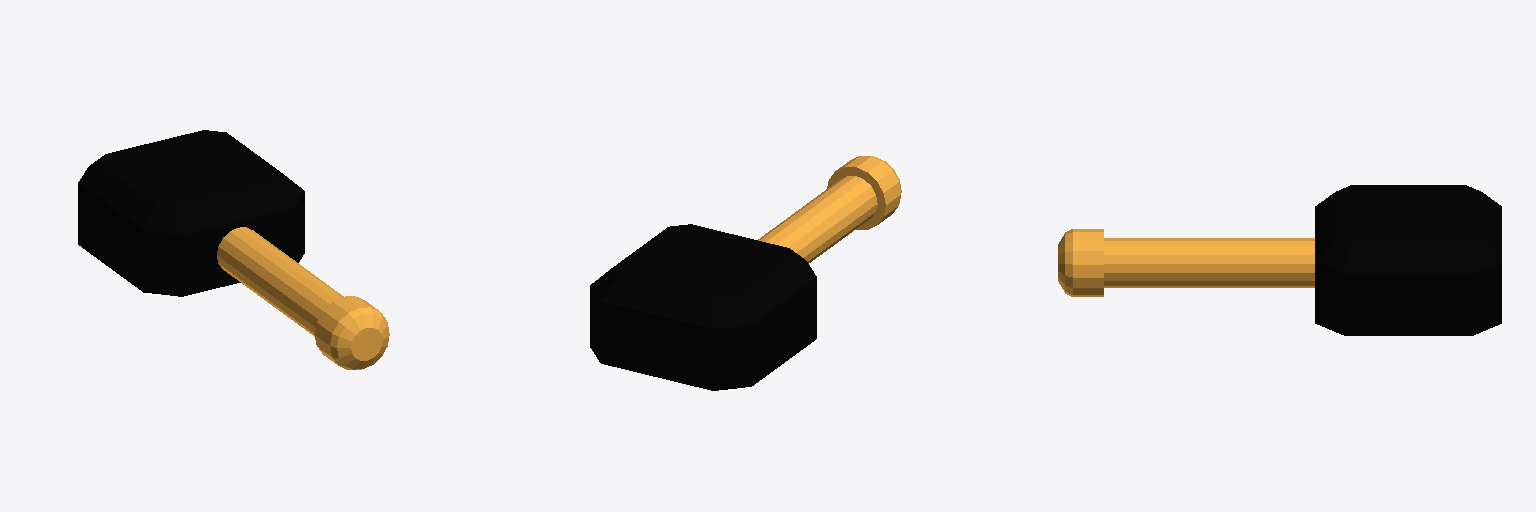
The model's file is wiiTank_head.obj.
3 renders of one model, left to right at view 1: azimuth 30°, elevation 25°; view 2: azimuth 150°, elevation 25°; view 3: azimuth 270°, elevation 25°, orthographic.
Parts seen in each view (by area): view 1: tank_head_exit.005_Cylinder.012; view 2: tank_head_exit.005_Cylinder.012; view 3: tank_head_exit.005_Cylinder.012.
Part boxes in pixels (left/top/right/bottom): tank_head_exit.005_Cylinder.012: left=78, top=130, right=389, bottom=369; tank_head_exit.005_Cylinder.012: left=590, top=156, right=901, bottom=390; tank_head_exit.005_Cylinder.012: left=1058, top=185, right=1501, bottom=335.
Size of the model in its own units: 2 by 0.9493 by 4.76.